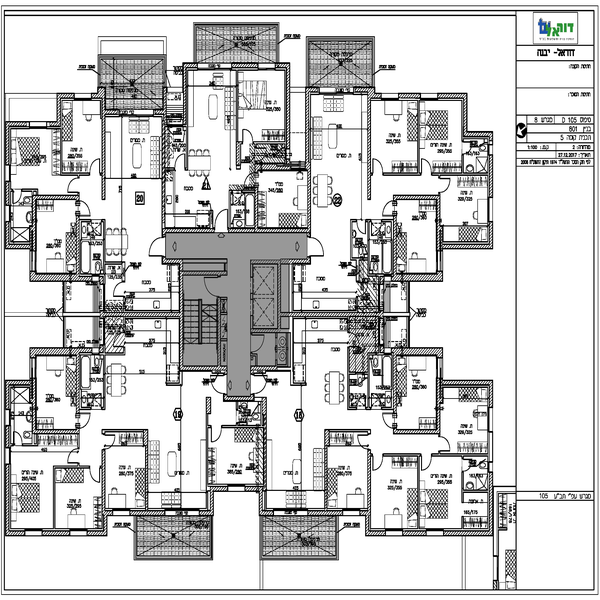room: (183, 60, 291, 170), (357, 453, 493, 536), (102, 104, 165, 268), (367, 94, 466, 177), (4, 462, 109, 537), (206, 390, 267, 496), (387, 342, 441, 437), (317, 431, 374, 516), (29, 195, 84, 281), (101, 424, 147, 518), (27, 354, 79, 435)
